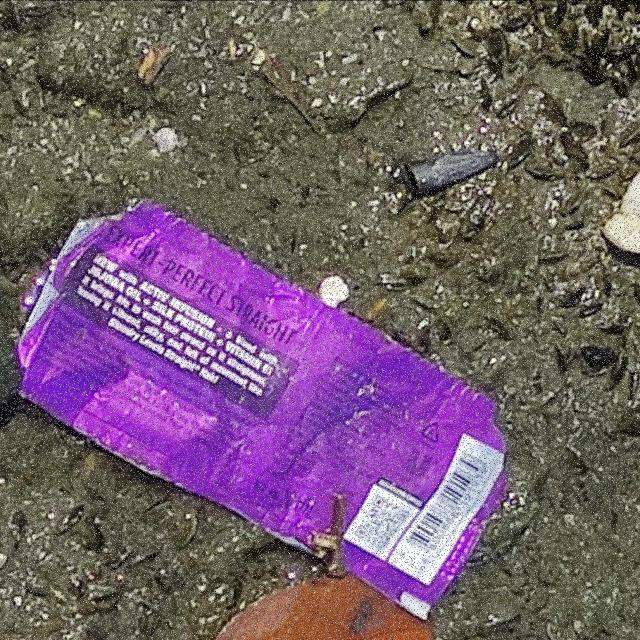plastic_waste: (17, 197, 515, 613)
